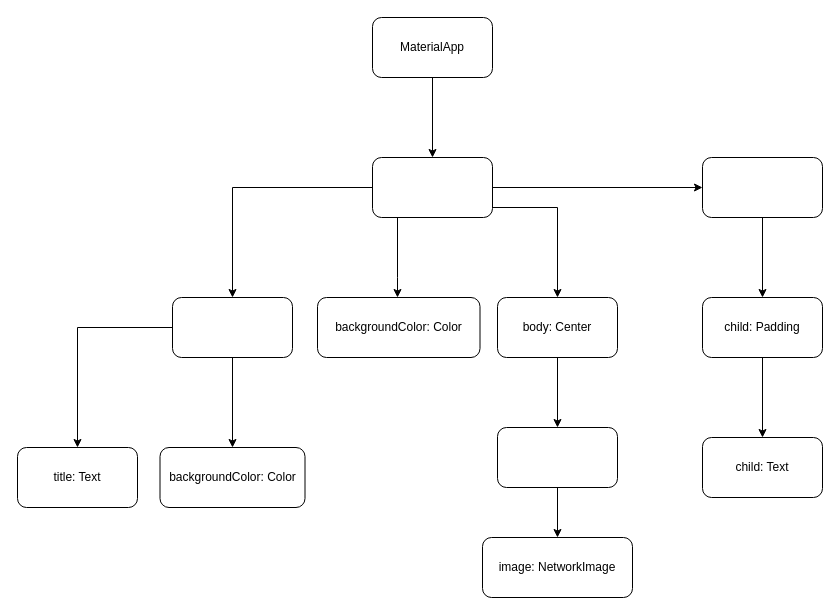
Some shapes in this 840 by 615 pixel diagram are drawn without their labels. The shapes that lost their labels are listed below. From the top down, each one's centre as x and y in pixels, then its label:
point (432, 187): home: Scaffold
point (762, 187): floatingActionButton: RawMaterialButton
point (232, 327): appBar: AppBar
point (557, 457): child: Image
